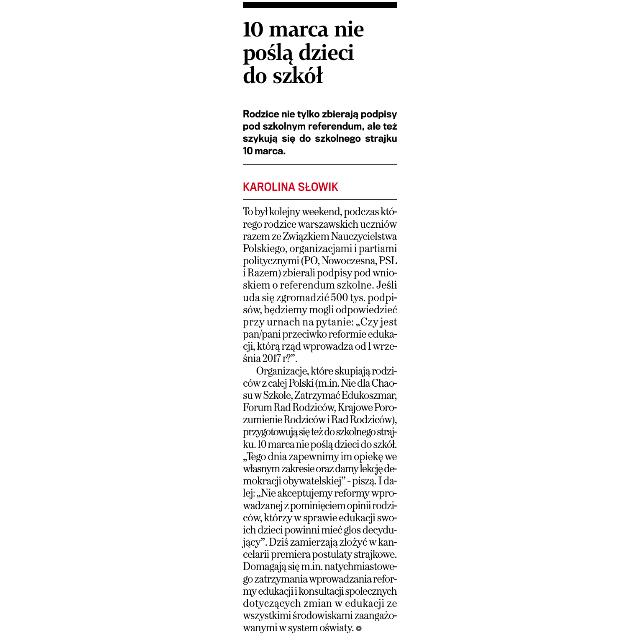author: (238, 177, 348, 196)
body: (237, 204, 403, 636)
lead: (237, 104, 403, 160)
title: (238, 12, 372, 88)
